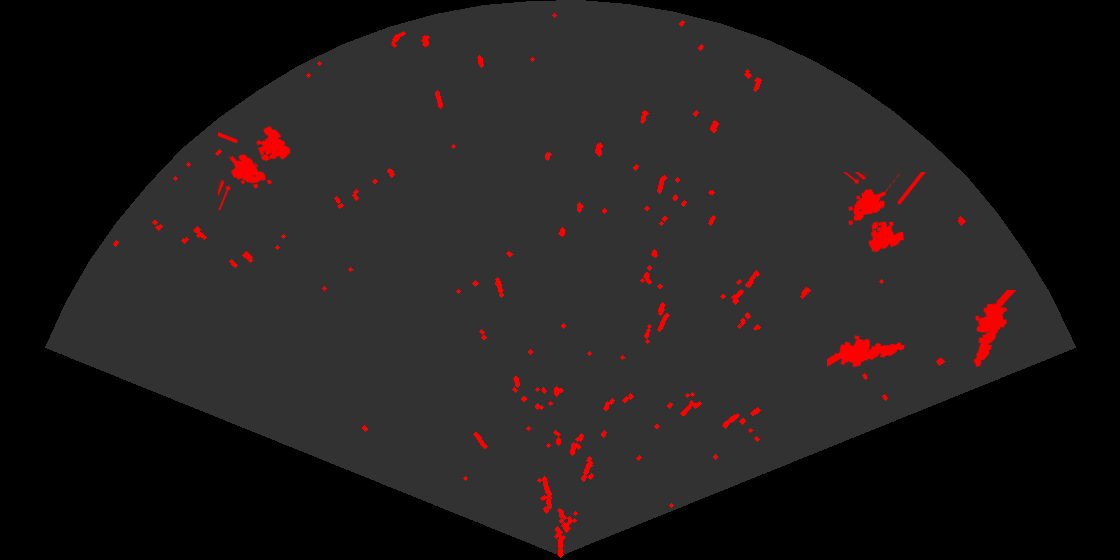cage: (842, 172, 925, 254), (218, 125, 292, 210)
frogman: (972, 290, 1018, 368), (827, 333, 906, 369)
